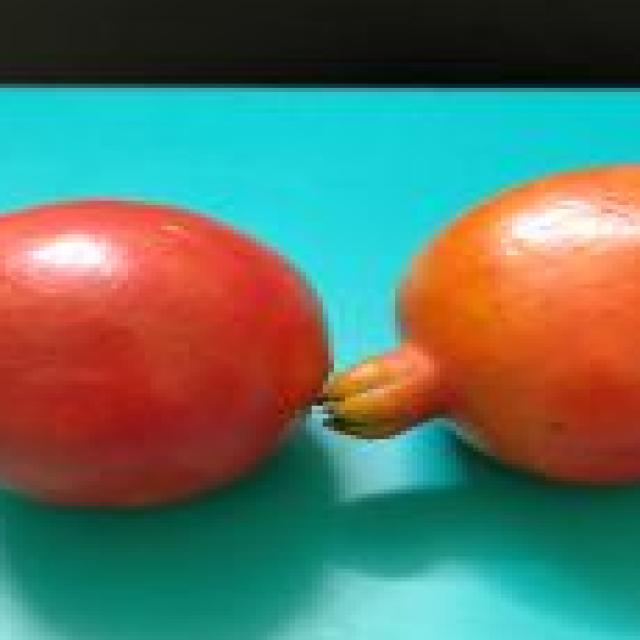Good_Pomegranate-50-60-days: (0, 167, 640, 515)
